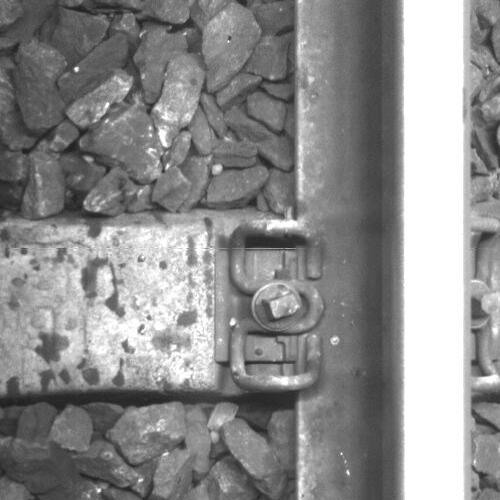rail: (396, 1, 472, 500)
tie_concr: (1, 223, 295, 392)
vossloh: (215, 219, 329, 392)
